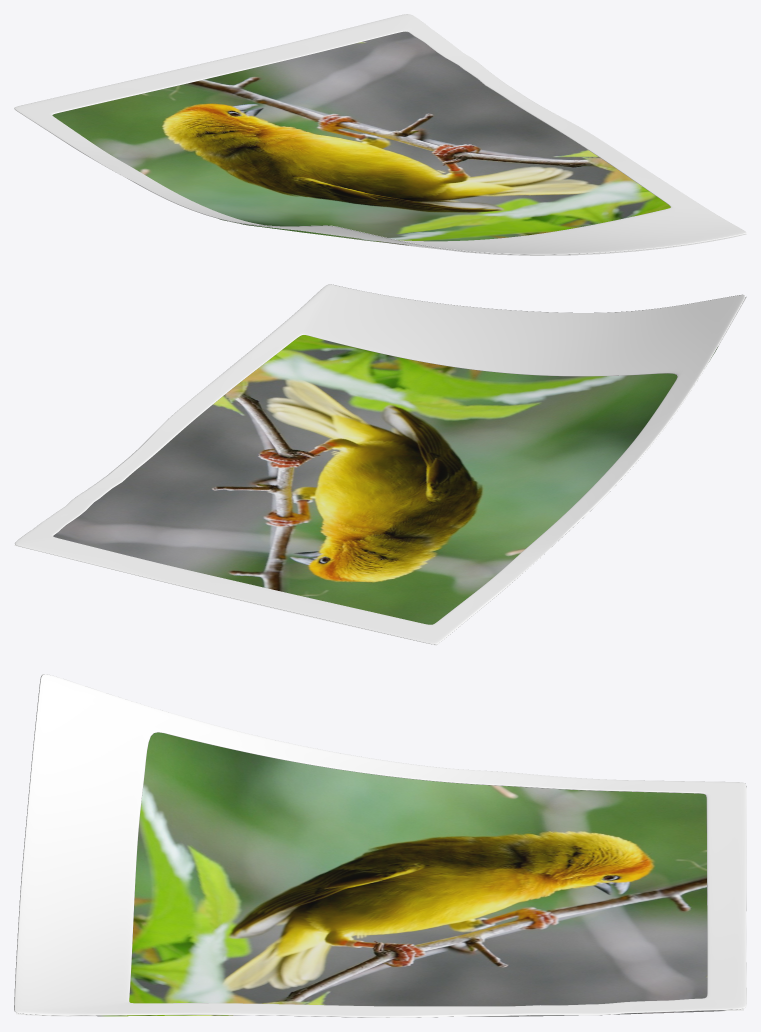
3 views of the same model, one above another, from view 1: azimuth 30°, elevation 25°; view 2: azimuth 150°, elevation 25°; view 3: azimuth 270°, elevation 25° (orthographic). The views are drawn at different scales.
Size of the model in its own units: 9.7 by 2.4 by 12.73.
Materials: 2 (1 with a texture image).
